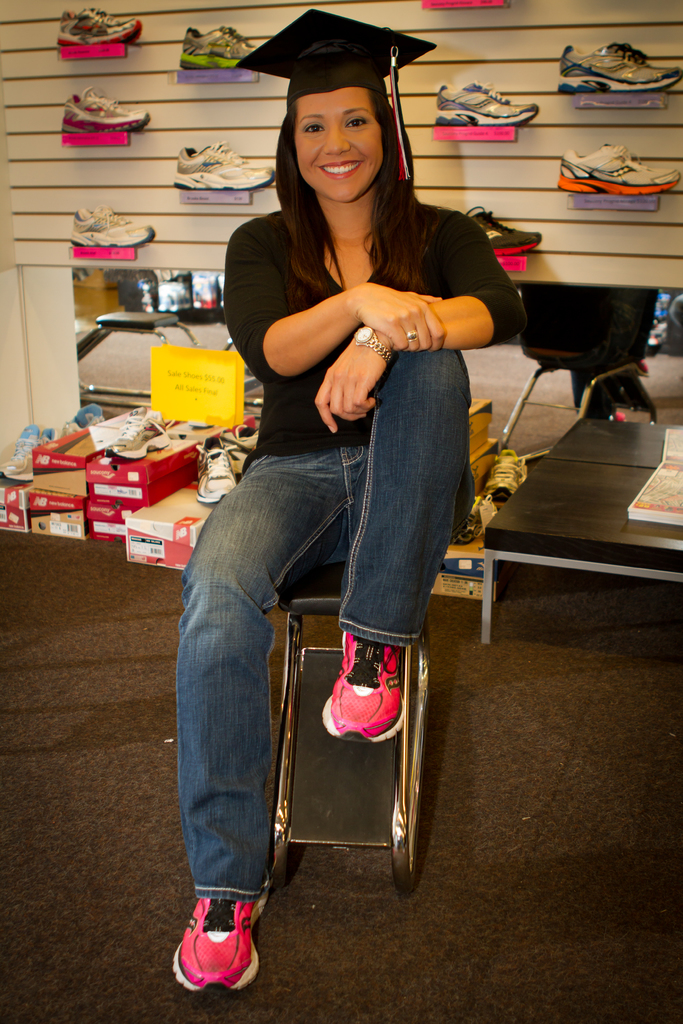Footwear: (158, 865, 277, 1004), (318, 620, 419, 748), (555, 37, 682, 95), (553, 141, 679, 196), (436, 74, 543, 130), (171, 22, 263, 72), (63, 200, 159, 247), (58, 86, 151, 134), (98, 403, 177, 459), (0, 420, 63, 483), (56, 4, 140, 50), (464, 205, 541, 254), (192, 435, 238, 504), (448, 492, 500, 547), (481, 449, 531, 504), (215, 415, 264, 459), (60, 396, 108, 435)
